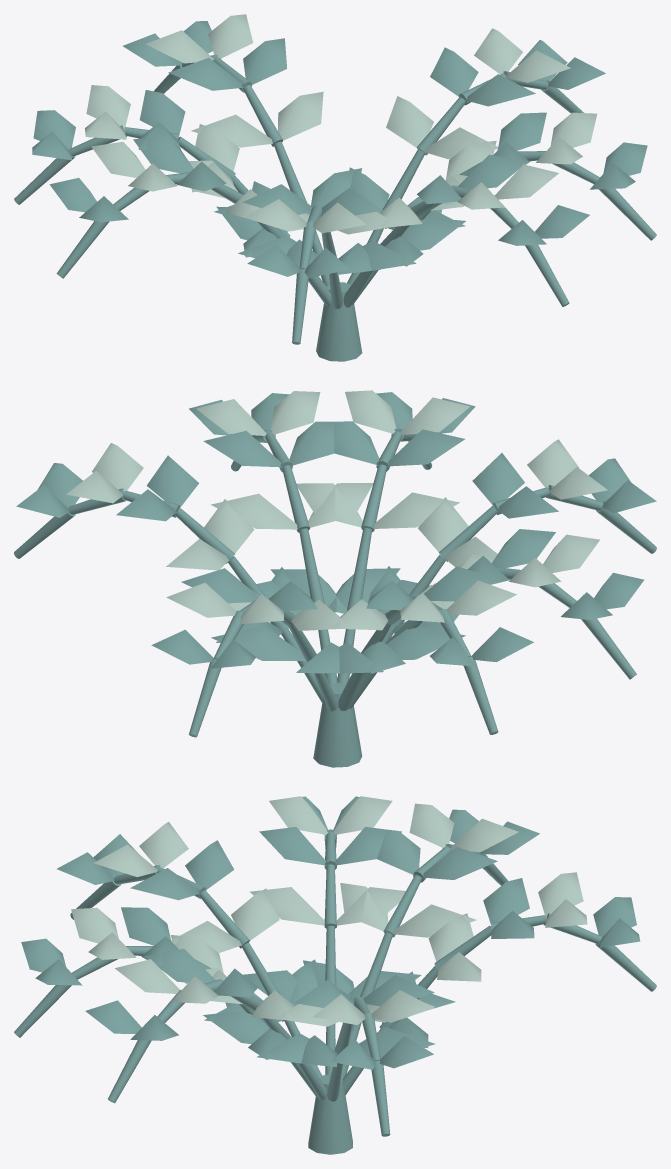
File: plant-fern-snowy.glb
The picture shows the model from 3 angles, top to bottom: view 1: azimuth 30°, elevation 25°; view 2: azimuth 150°, elevation 25°; view 3: azimuth 270°, elevation 25°; orthographic projection. The views are drawn at different scales.
Parts seen in each view (by area): view 1: plant-fern-kit-snowy-green, plant-fern-kit-snowy-leaf; view 2: plant-fern-kit-snowy-green, plant-fern-kit-snowy-leaf; view 3: plant-fern-kit-snowy-green, plant-fern-kit-snowy-leaf.
Part boxes in pixels (<box>): plant-fern-kit-snowy-green: <box>14,21,656,361</box>; plant-fern-kit-snowy-leaf: <box>85,14,597,234</box>; plant-fern-kit-snowy-green: <box>14,392,656,767</box>; plant-fern-kit-snowy-leaf: <box>66,390,607,630</box>; plant-fern-kit-snowy-green: <box>14,796,656,1154</box>; plant-fern-kit-snowy-leaf: <box>71,796,587,1026</box>.
Size of the model in its own units: 1.8 by 0.7658 by 1.78.
